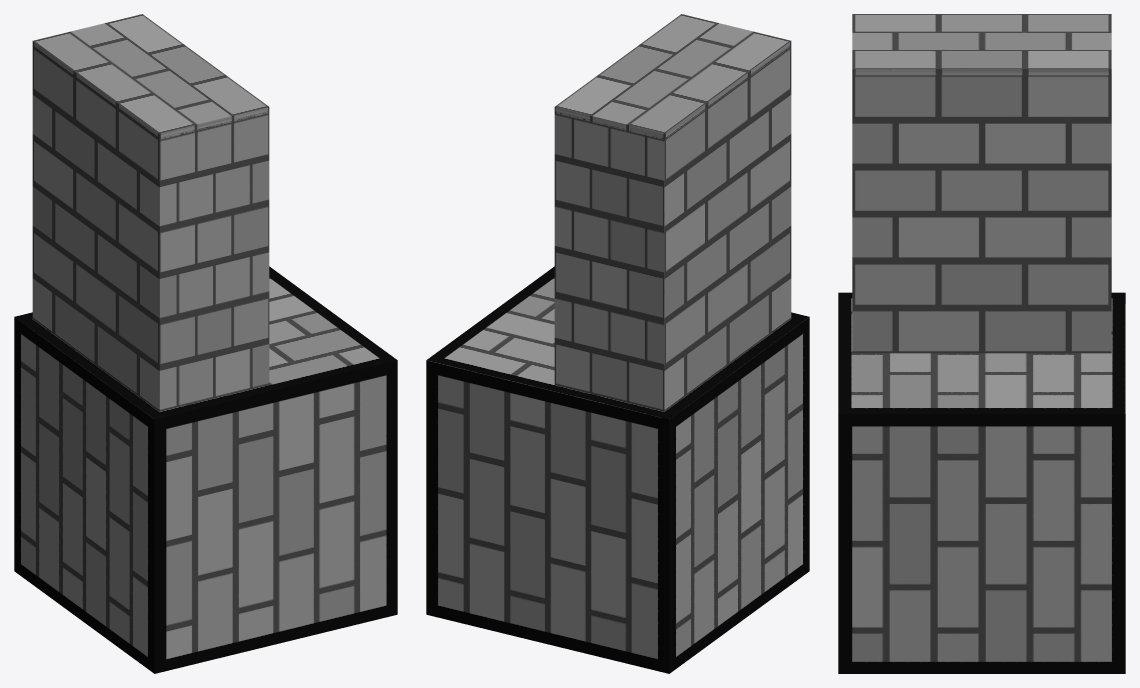
File: BricksWall_left.glb
3 views of the same model, side by side, from view 1: azimuth 30°, elevation 25°; view 2: azimuth 150°, elevation 25°; view 3: azimuth 270°, elevation 25° (orthographic). The views are drawn at different scales.
Visible parts, largest first — view 1: BricksWall.Ver.Join.Baked_v2; view 2: BricksWall.Ver.Join.Baked_v2; view 3: BricksWall.Ver.Join.Baked_v2.
Boxes of the visible parts, left/top/right/bottom form: BricksWall.Ver.Join.Baked_v2: left=14, top=14, right=397, bottom=673; BricksWall.Ver.Join.Baked_v2: left=426, top=14, right=809, bottom=673; BricksWall.Ver.Join.Baked_v2: left=838, top=14, right=1125, bottom=673.
Bounding box in the file's own units: 0.98 × 2.05 × 0.98.
1 material, 1 textured.
